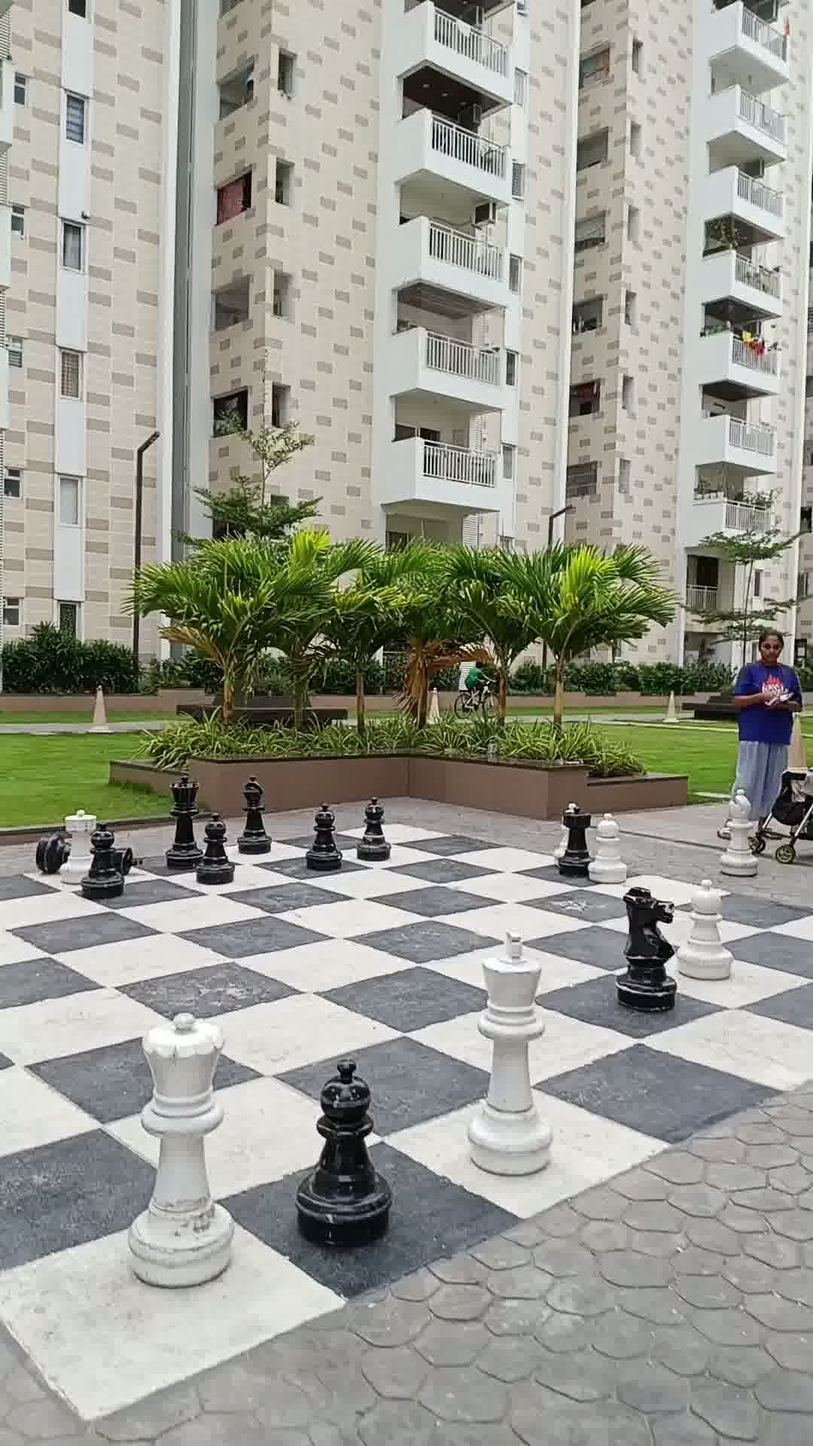person: (740, 615, 813, 843)
tree: (128, 518, 287, 746), (515, 501, 657, 740), (270, 512, 398, 734), (367, 512, 487, 734), (452, 501, 563, 734), (185, 376, 330, 547), (700, 484, 813, 663)
